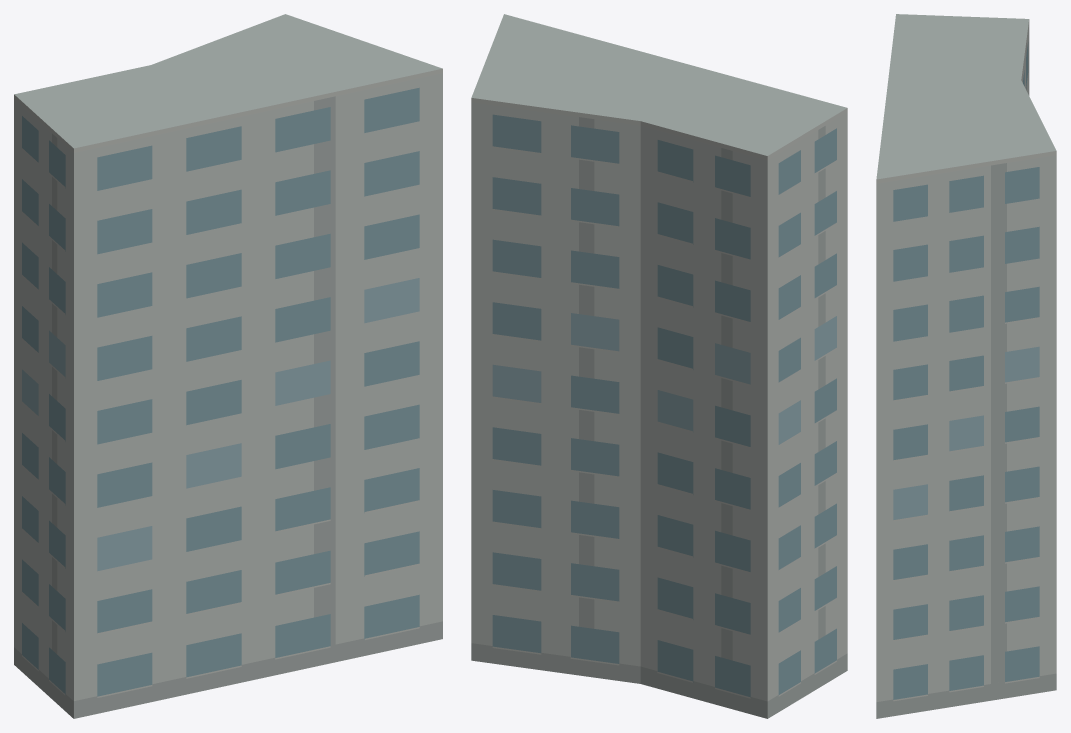
The model's file is residential-98ea56e3-1463-4ac0-8525-365cfdb408da.glb.
3 views of the same model, side by side, from view 1: azimuth 30°, elevation 25°; view 2: azimuth 150°, elevation 25°; view 3: azimuth 270°, elevation 25° (orthographic). The views are drawn at different scales.
Visible parts, largest first — view 1: residential-98ea56e3-1463-4ac0-8525-365cfdb408da.tmp; view 2: residential-98ea56e3-1463-4ac0-8525-365cfdb408da.tmp; view 3: residential-98ea56e3-1463-4ac0-8525-365cfdb408da.tmp.
Part boxes in pixels (<box>): residential-98ea56e3-1463-4ac0-8525-365cfdb408da.tmp: <box>14,14,442,718</box>; residential-98ea56e3-1463-4ac0-8525-365cfdb408da.tmp: <box>471,14,847,718</box>; residential-98ea56e3-1463-4ac0-8525-365cfdb408da.tmp: <box>876,14,1056,718</box>.
Bounding box in the file's own units: 20.41 × 31 × 9.4.
